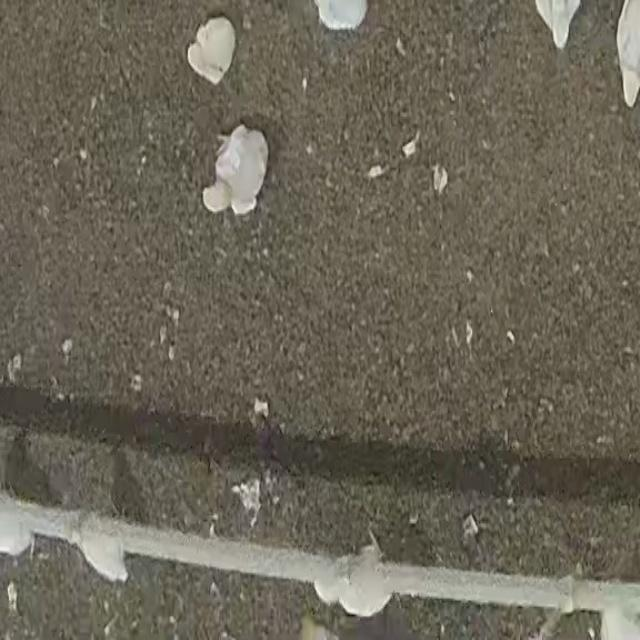chicken: (202, 122, 274, 220), (182, 10, 240, 89)
